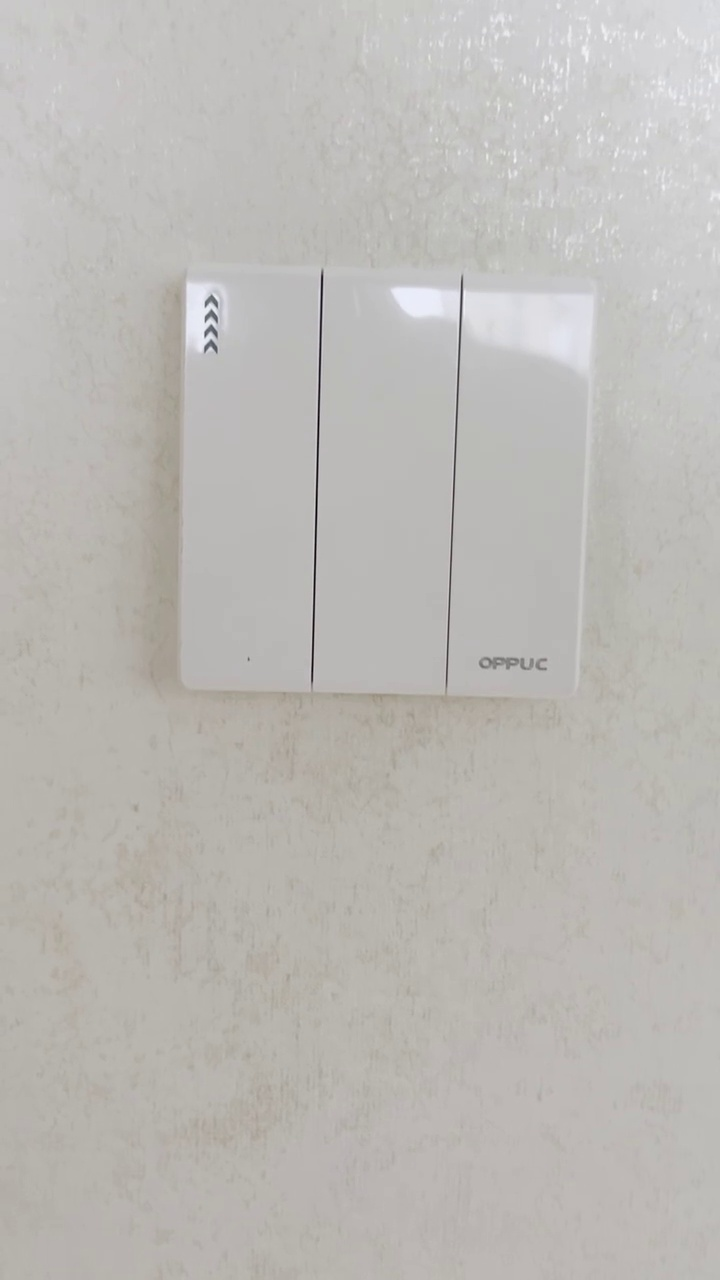button1: (318, 274, 455, 693), (456, 283, 587, 695), (186, 274, 313, 684)
